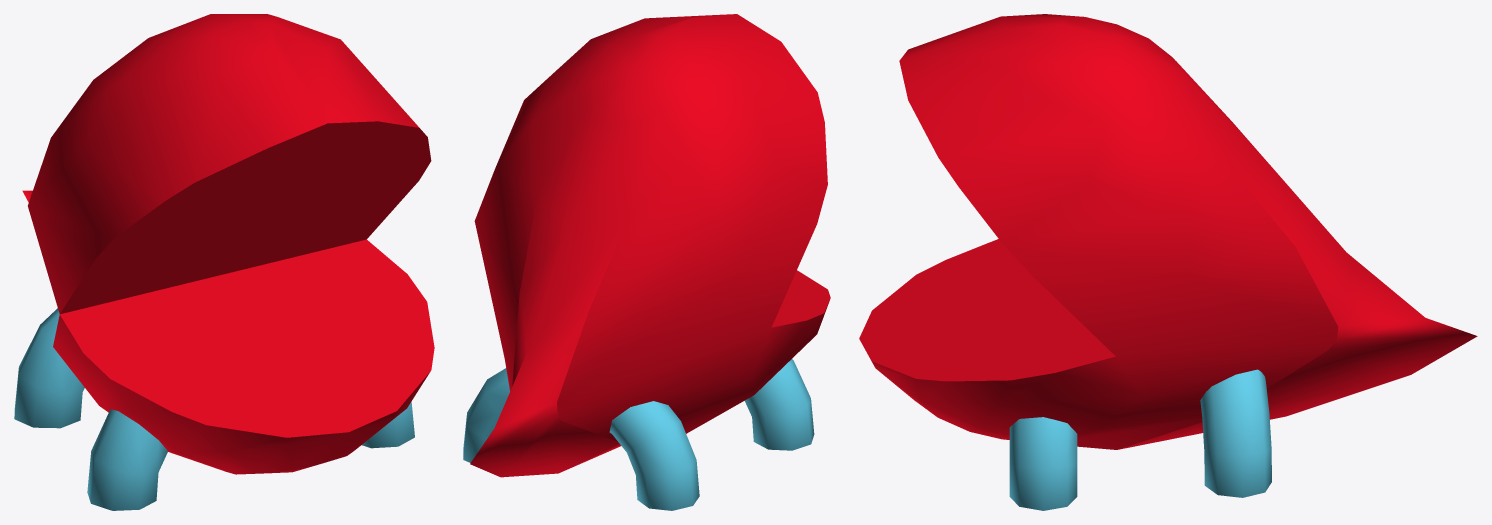
Rendered from Enemy.fbx.
3 renders of one model, left to right at view 1: azimuth 30°, elevation 25°; view 2: azimuth 150°, elevation 25°; view 3: azimuth 270°, elevation 25°, orthographic. The views are drawn at different scales.
Visible parts, largest first — view 1: pSphere1, pCylinder6, pCylinder8, pCylinder5; view 2: pSphere1, pCylinder8, pCylinder6, pCylinder7; view 3: pSphere1, pCylinder7, pCylinder5.
Part boxes in pixels (left/top/right/bottom): pSphere1: left=22, top=14, right=434, bottom=474; pCylinder6: left=87, top=409, right=167, bottom=510; pCylinder8: left=14, top=308, right=84, bottom=428; pCylinder5: left=361, top=401, right=414, bottom=448; pSphere1: left=470, top=14, right=830, bottom=477; pCylinder8: left=609, top=401, right=699, bottom=510; pCylinder6: left=745, top=359, right=814, bottom=450; pCylinder7: left=463, top=368, right=509, bottom=462; pSphere1: left=859, top=14, right=1477, bottom=449; pCylinder7: left=1200, top=369, right=1271, bottom=497; pCylinder5: left=1009, top=417, right=1077, bottom=510.
Size of the model in its own units: 2.01 by 2.58 by 3.5.
